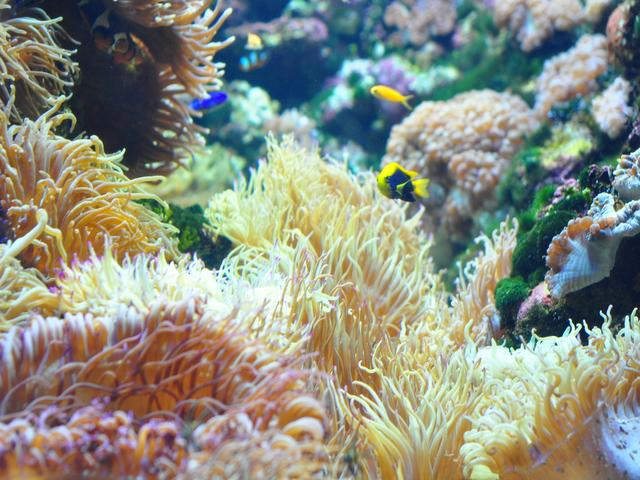fish: (362, 159, 438, 213)
